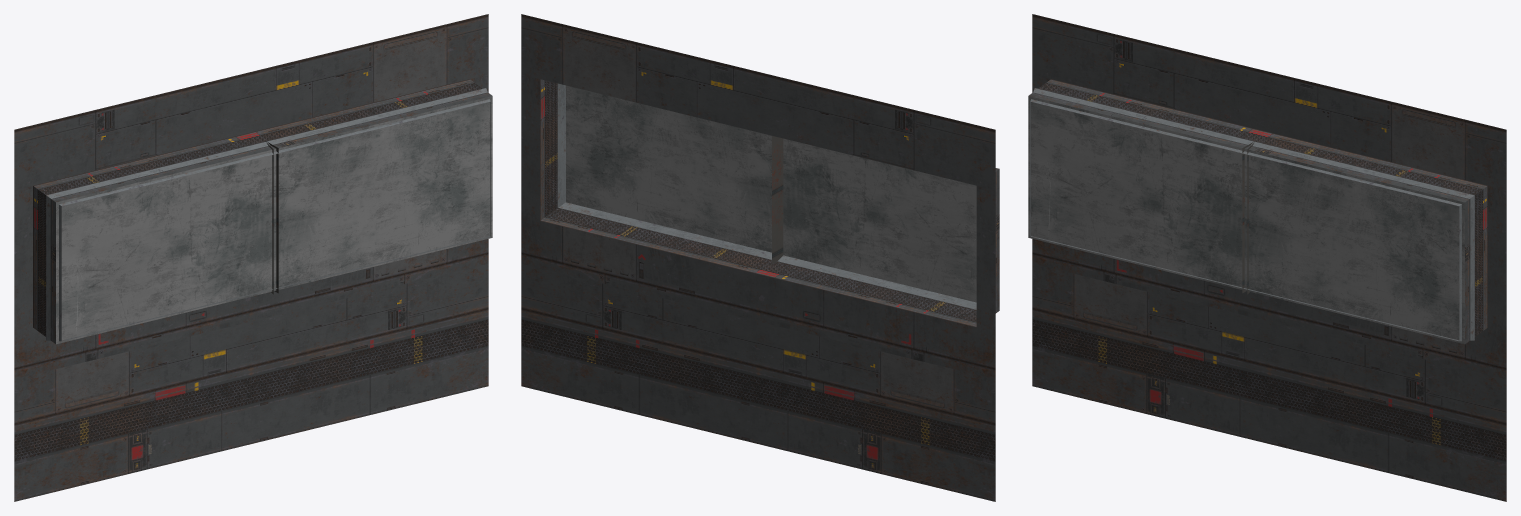
The model's file is ARC0910144.fbx.
3 views of the same model, side by side, from view 1: azimuth 30°, elevation 25°; view 2: azimuth 150°, elevation 25°; view 3: azimuth 330°, elevation 25° (orthographic).
Parts seen in each view (by area): view 1: smARC0910144; view 2: smARC0910144; view 3: smARC0910144.
Part boxes in pixels (left/top/right/bottom): smARC0910144: left=14, top=14, right=492, bottom=501; smARC0910144: left=521, top=14, right=999, bottom=501; smARC0910144: left=1028, top=14, right=1506, bottom=501.
Bounding box in the file's own units: 400 × 300 × 36.3.
1 material, 1 textured.
